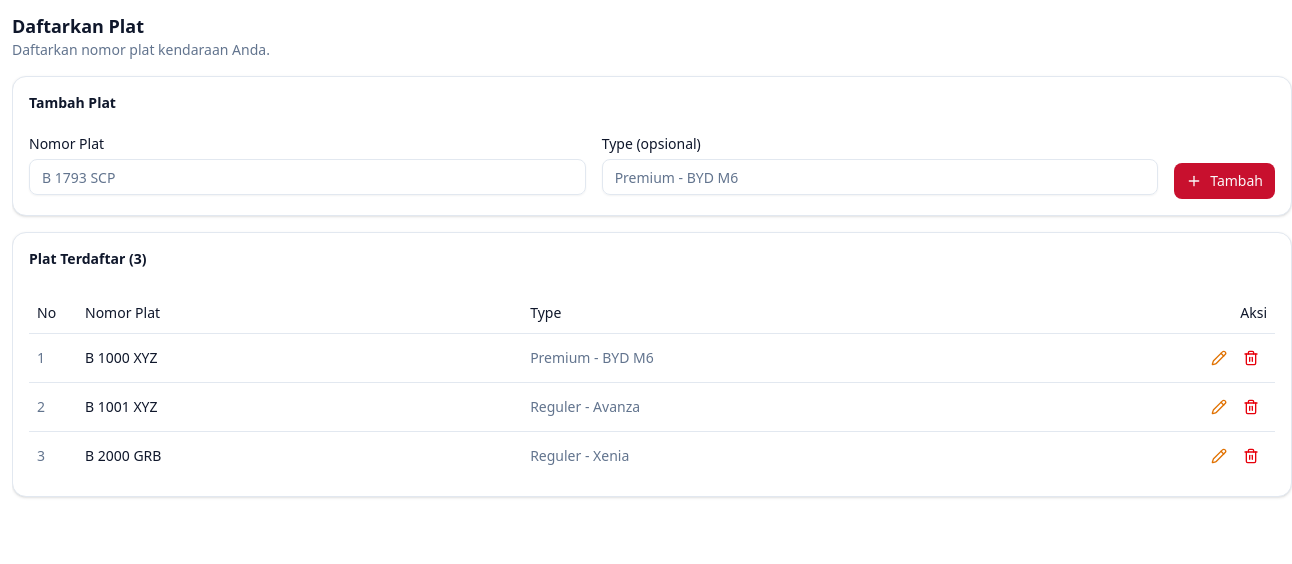
Test: Daftarkan Plat — the partner side of the shared screen › adds a plate and clears the form
Check: the text "B 1000 XYZ" is shown, box left=77, top=333, right=522, bottom=382
Step 1. Type "B 1002 XYZ" into the field labelled "Nomor Plat" → (307, 177), box left=29, top=159, right=586, bottom=195
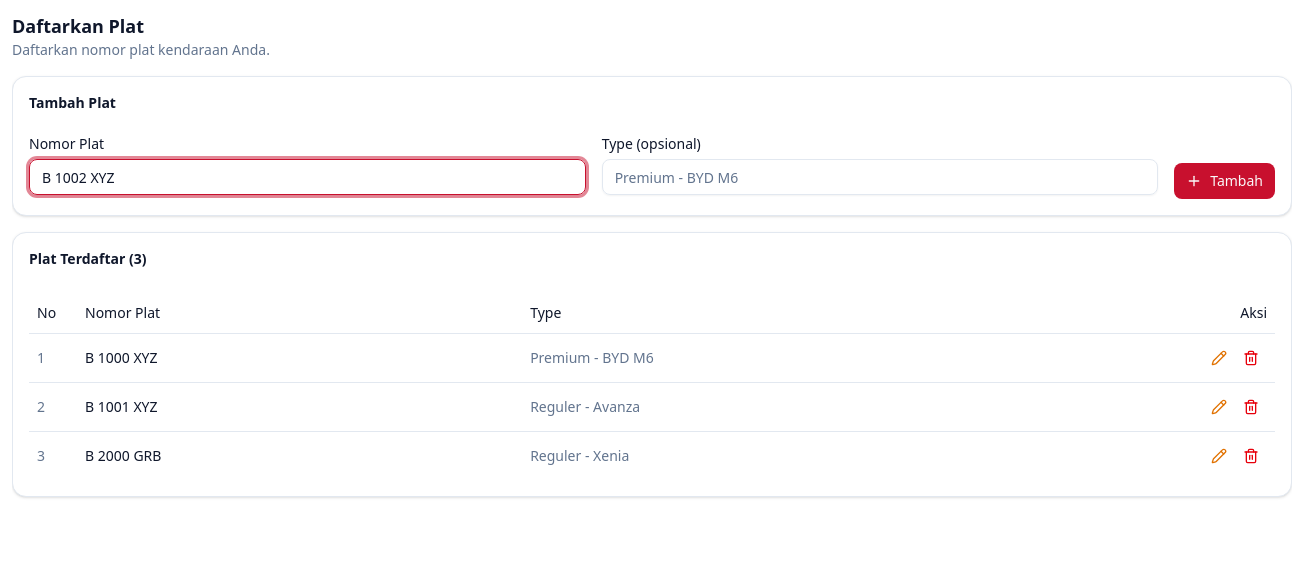
Step 2. Click the button "Tambah" → click(1225, 181), box left=1174, top=163, right=1275, bottom=199
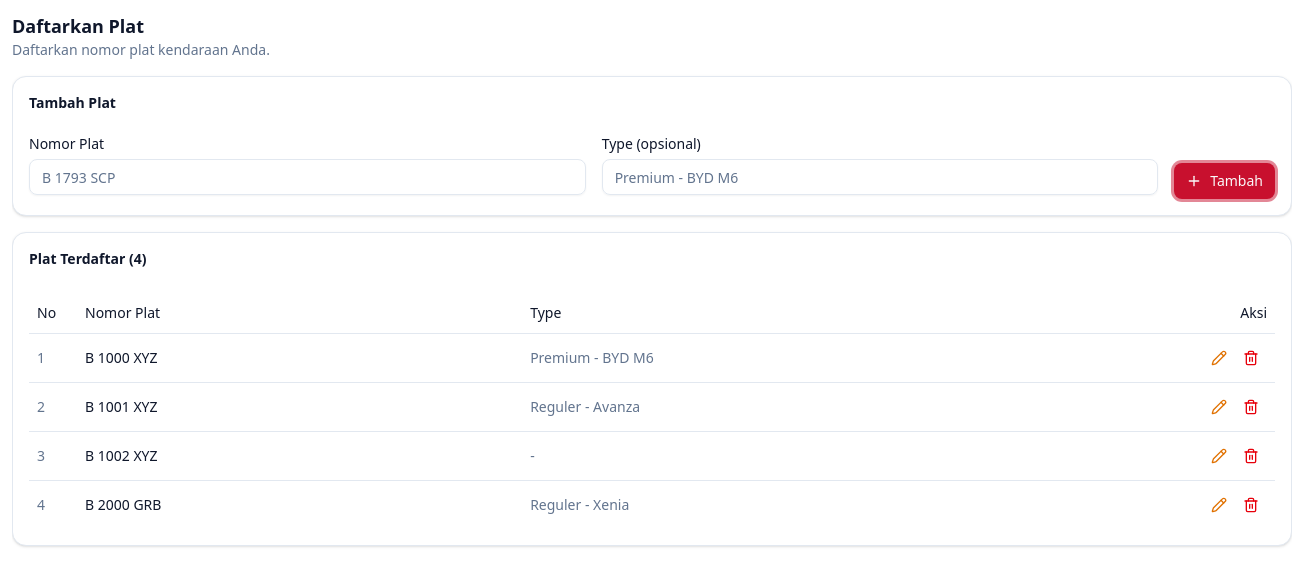
Check: the text "B 1002 XYZ" is shown, box left=77, top=431, right=522, bottom=480
Check: the field labelled "Nomor Plat" is empty, box left=29, top=159, right=586, bottom=195
